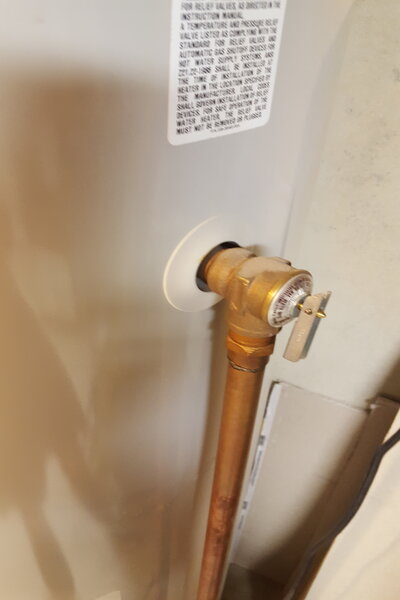valve: (197, 241, 331, 414)
